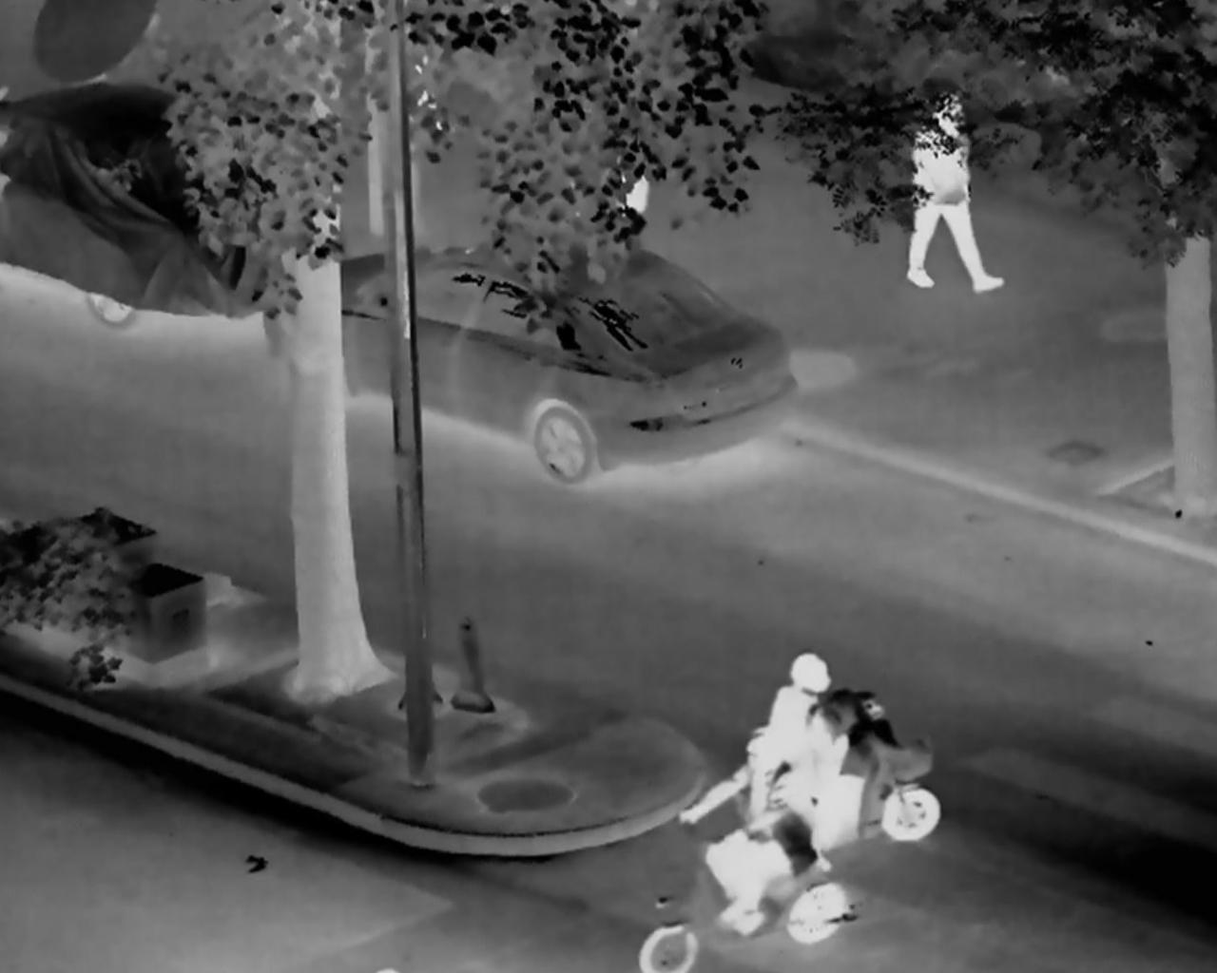person: (683, 733, 801, 931), (904, 96, 1004, 293), (759, 654, 849, 847)
